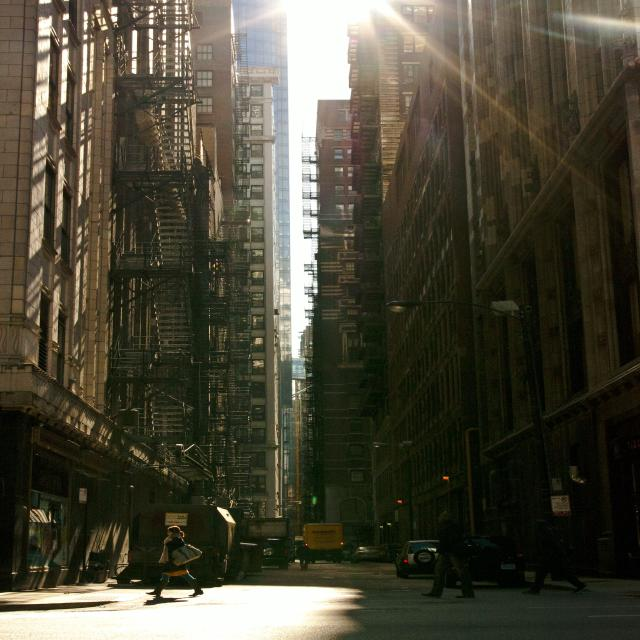adult: (522, 519, 586, 596), (144, 523, 207, 598), (424, 510, 473, 596)
